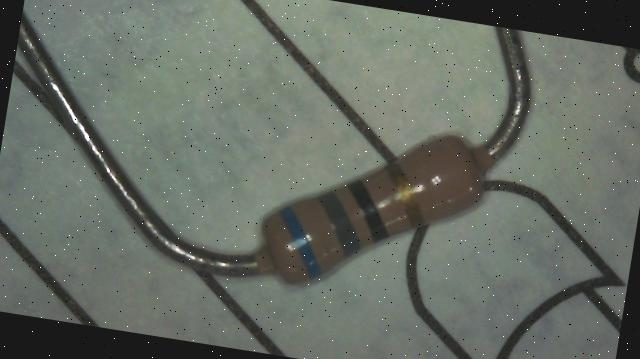black: (341, 177, 396, 242)
blue: (268, 204, 332, 280)
gold: (379, 162, 433, 226)
grey: (311, 189, 368, 258)
resistor: (194, 94, 519, 325)
